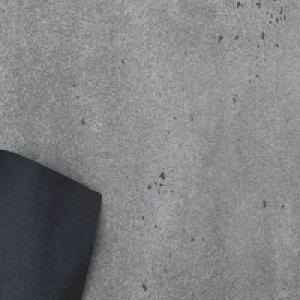PaintChip: (0, 147, 102, 300)
